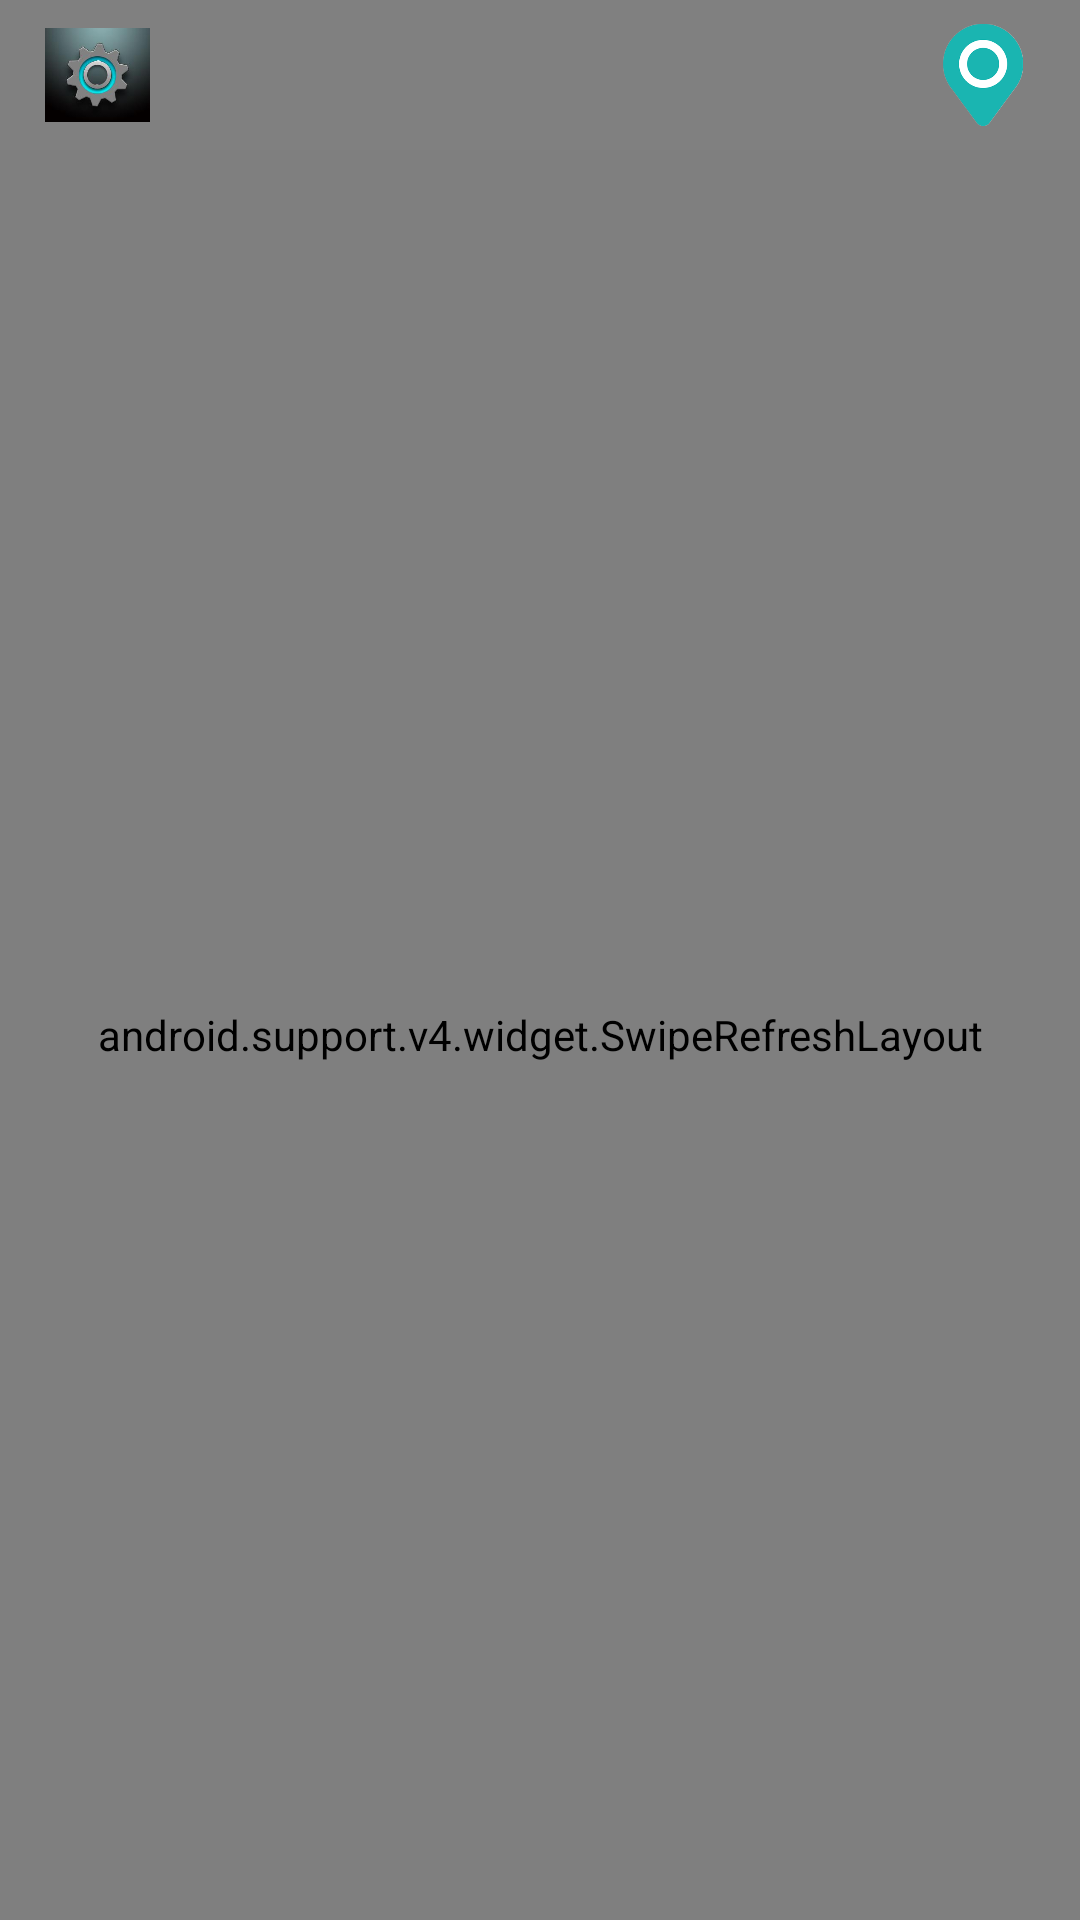

Point at icon controls on the screen. Image size 1080 x 1920, points as (x=x, y=y).
ding wei: (x=983, y=75)
shezhi: (x=97, y=75)
